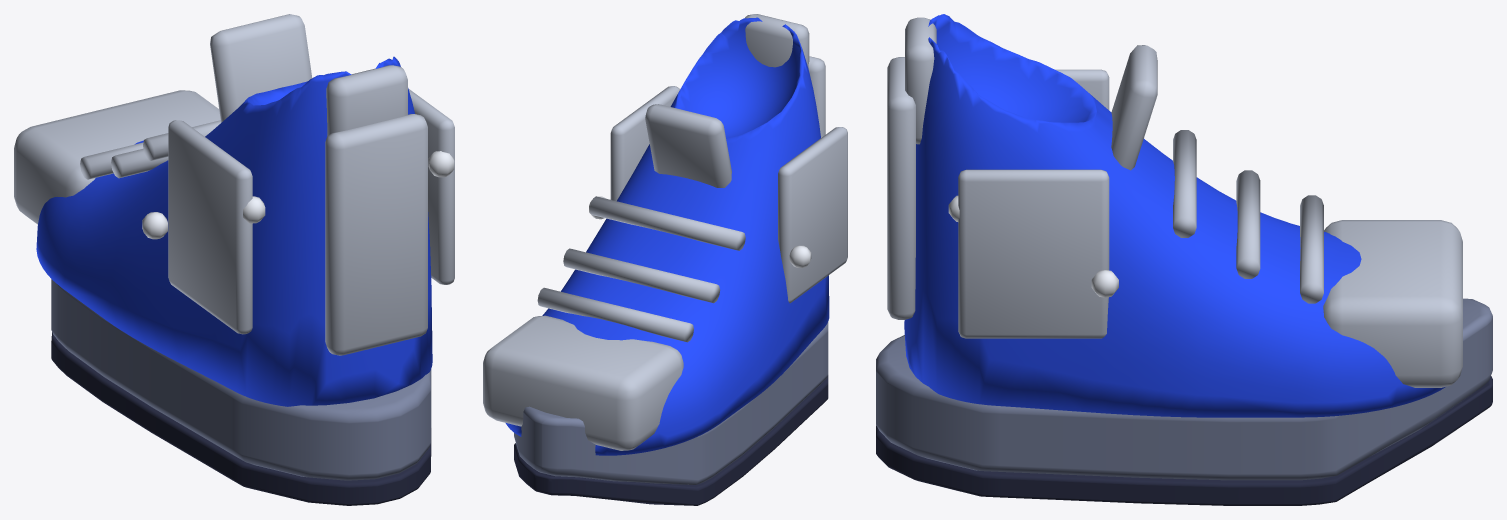
The model's file is shoe_titan.fbx.
3 views of the same model, side by side, from view 1: azimuth 30°, elevation 25°; view 2: azimuth 150°, elevation 25°; view 3: azimuth 270°, elevation 25° (orthographic). The views are drawn at different scales.
Parts seen in each view (by area): view 1: shoe_titan; view 2: shoe_titan; view 3: shoe_titan.
Part boxes in pixels (bbox=[...]): shoe_titan: bbox=[14, 14, 454, 505]; shoe_titan: bbox=[483, 14, 847, 505]; shoe_titan: bbox=[876, 14, 1492, 505].
Size of the model in its own units: 1.96 by 2.93 by 3.88.
Materials: 1 (1 with a texture image).
